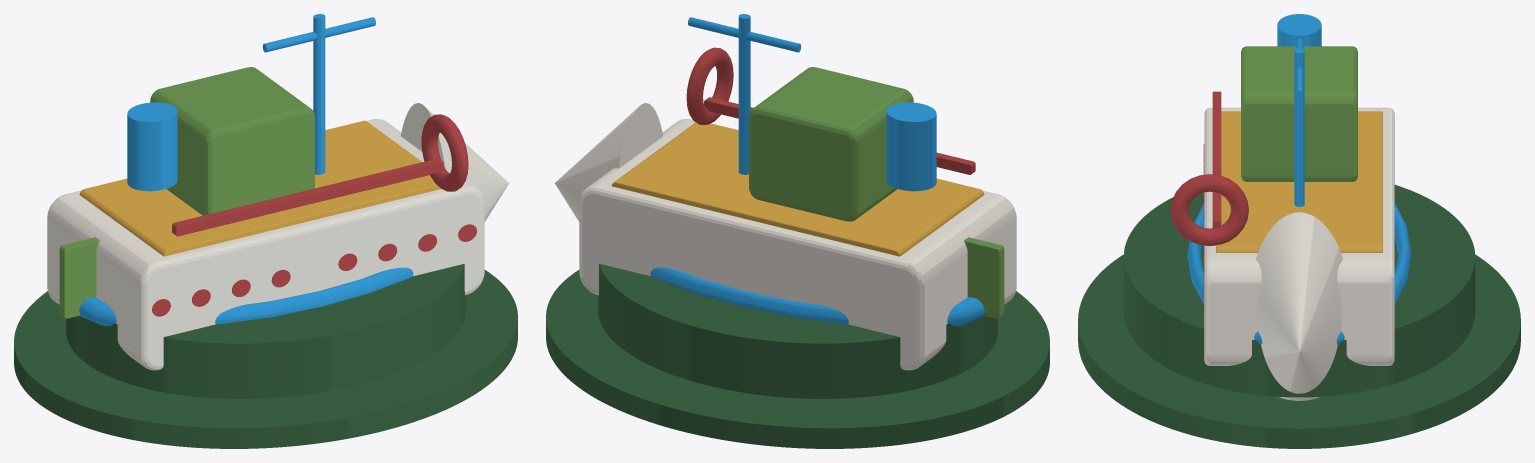
Rendered from 0379_欧洲文明图鉴_龙头船.glb.
3 views of the same model, side by side, from view 1: azimuth 30°, elevation 25°; view 2: azimuth 150°, elevation 25°; view 3: azimuth 270°, elevation 25° (orthographic).
Visible parts, largest first — view 1: card_0379; view 2: card_0379; view 3: card_0379.
Part boxes in pixels (x1,y1,x2,y2): card_0379: (14, 14, 517, 448); card_0379: (546, 14, 1049, 448); card_0379: (1078, 14, 1520, 448).
Bounding box in the file's own units: 1.53 × 1 × 1.27.
